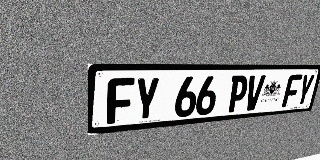6: (174, 76, 199, 118), (195, 76, 219, 116)
F: (107, 77, 135, 124), (281, 74, 303, 107)
P: (226, 75, 249, 113)
V: (243, 75, 266, 111)
Y: (133, 77, 160, 122), (295, 74, 315, 106)
